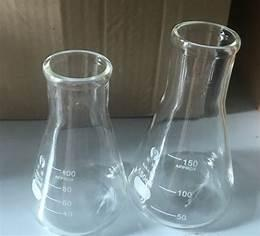Titrarion: (139, 15, 242, 221), (27, 41, 133, 221)
